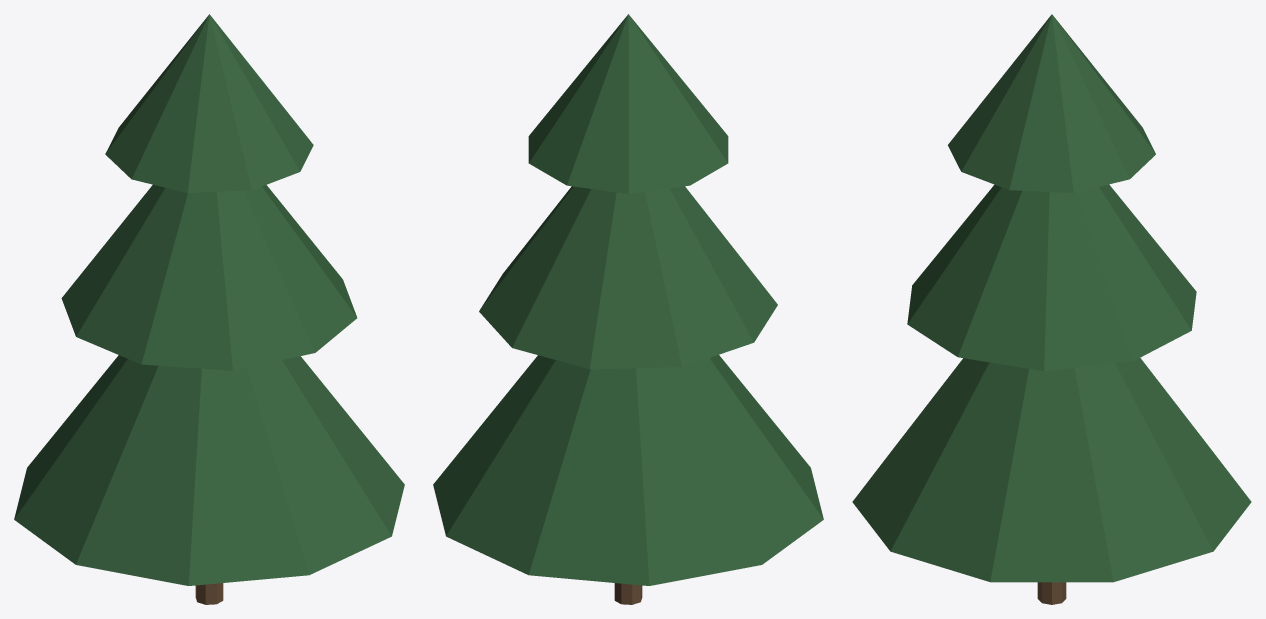
File: jehlicnan.glb
3 views of the same model, side by side, from view 1: azimuth 30°, elevation 25°; view 2: azimuth 150°, elevation 25°; view 3: azimuth 270°, elevation 25° (orthographic).
Parts seen in each view (by area): view 1: jehlicnan; view 2: jehlicnan; view 3: jehlicnan.
Part boxes in pixels (<box>): jehlicnan: <box>14,14,404,604</box>; jehlicnan: <box>433,14,823,604</box>; jehlicnan: <box>852,14,1251,604</box>.
Bounding box in the file's own units: 0.5885 × 1 × 0.6188.
